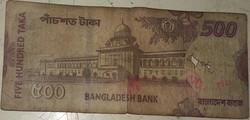500 taka: (8, 2, 246, 115)
